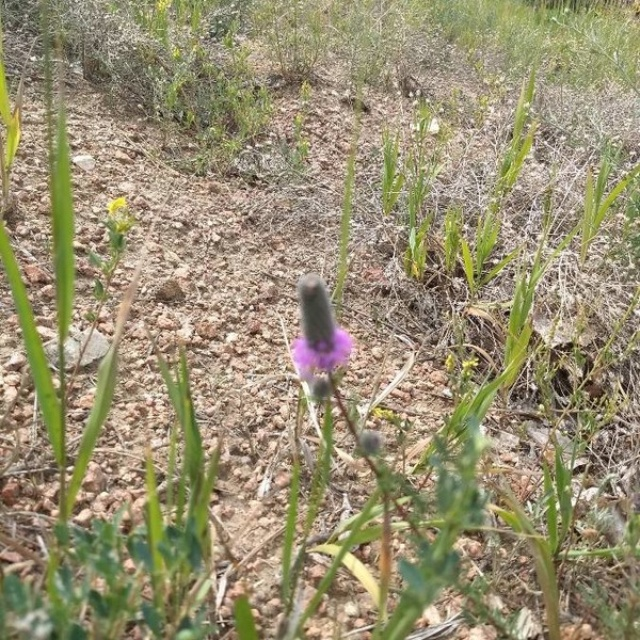obstacle: (18, 397, 553, 627)
